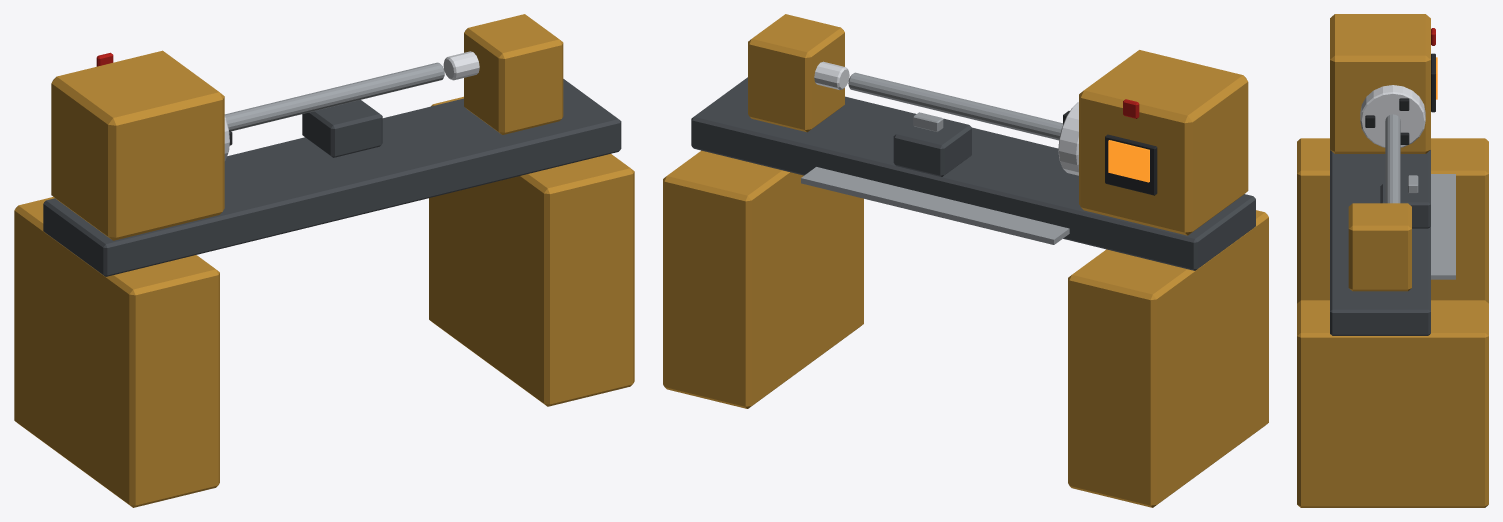
The model's file is lathe.glb.
The picture shows the model from 3 angles, left to right: view 1: azimuth 30°, elevation 25°; view 2: azimuth 150°, elevation 25°; view 3: azimuth 270°, elevation 25°; orthographic projection. The views are drawn at different scales.
Parts seen in each view (by area): view 1: lathe; view 2: lathe; view 3: lathe.
Part boxes in pixels (<box>): lathe: <box>14,14,634,507</box>; lathe: <box>663,14,1268,507</box>; lathe: <box>1297,14,1488,507</box>.
Bounding box in the file's own units: 2 × 1.4 × 0.8.
